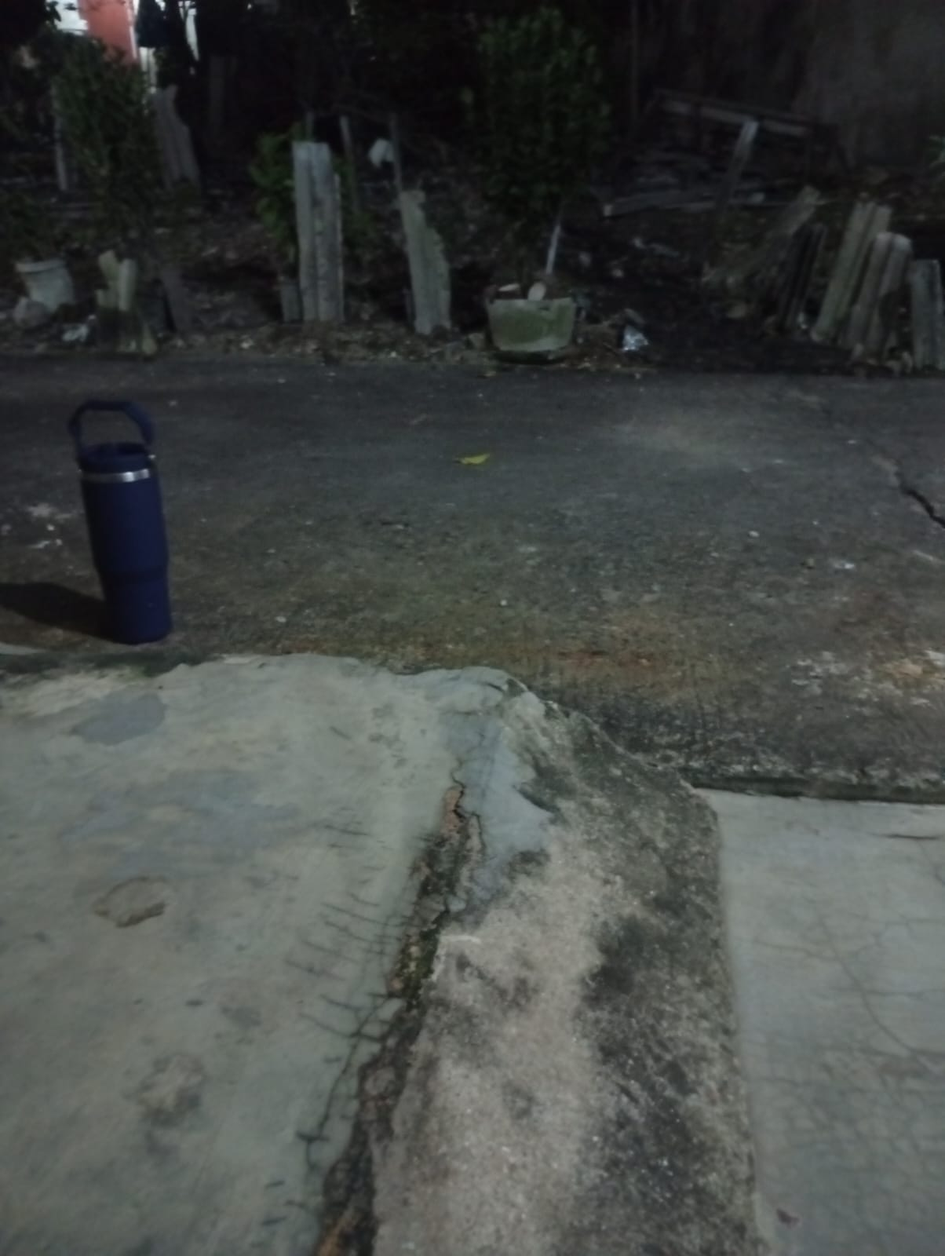Tupperware: (35, 389, 208, 642)
